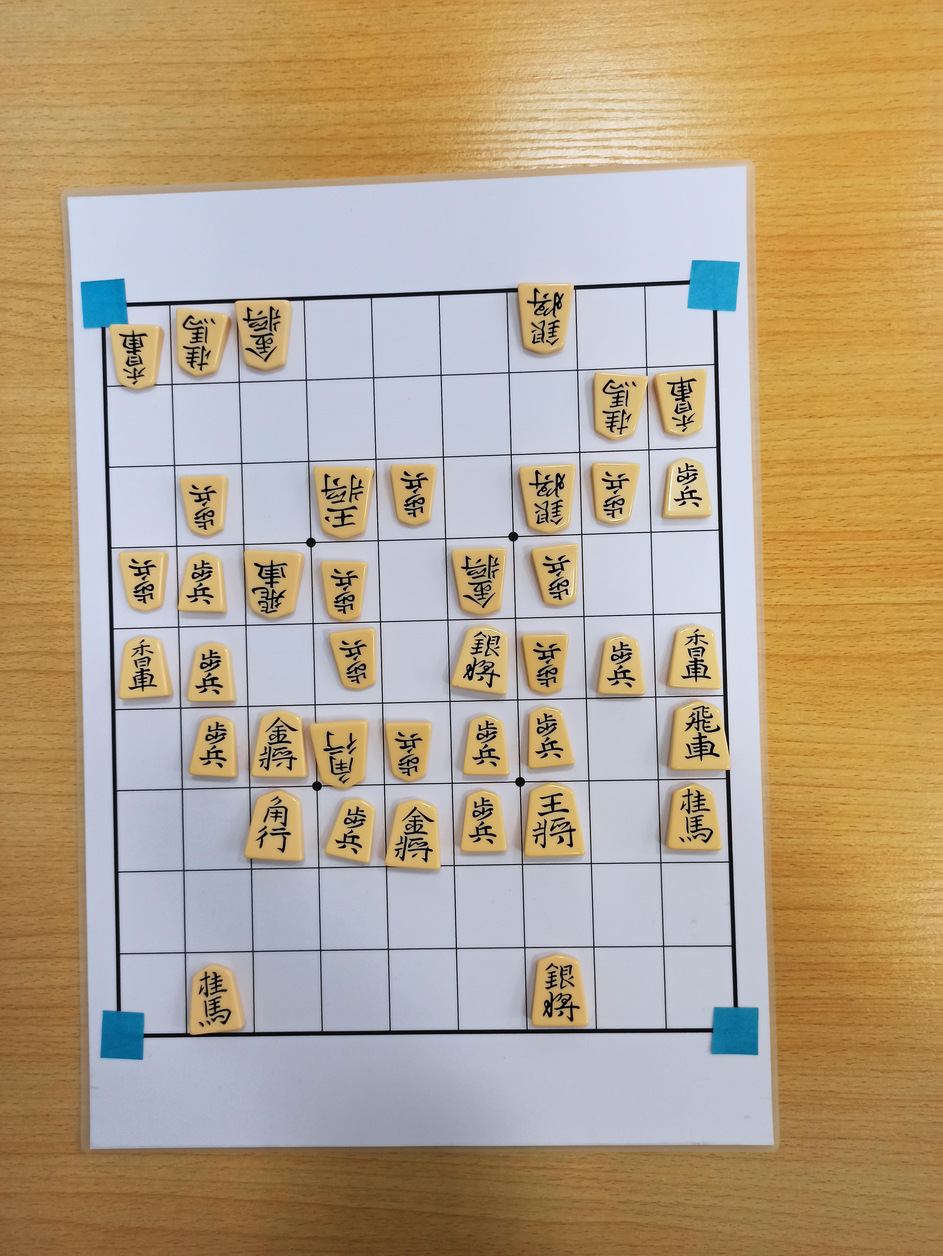board: (106, 281, 736, 1036)
